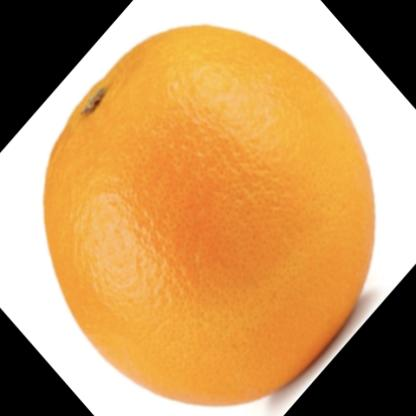fresh: (47, 26, 376, 404)
